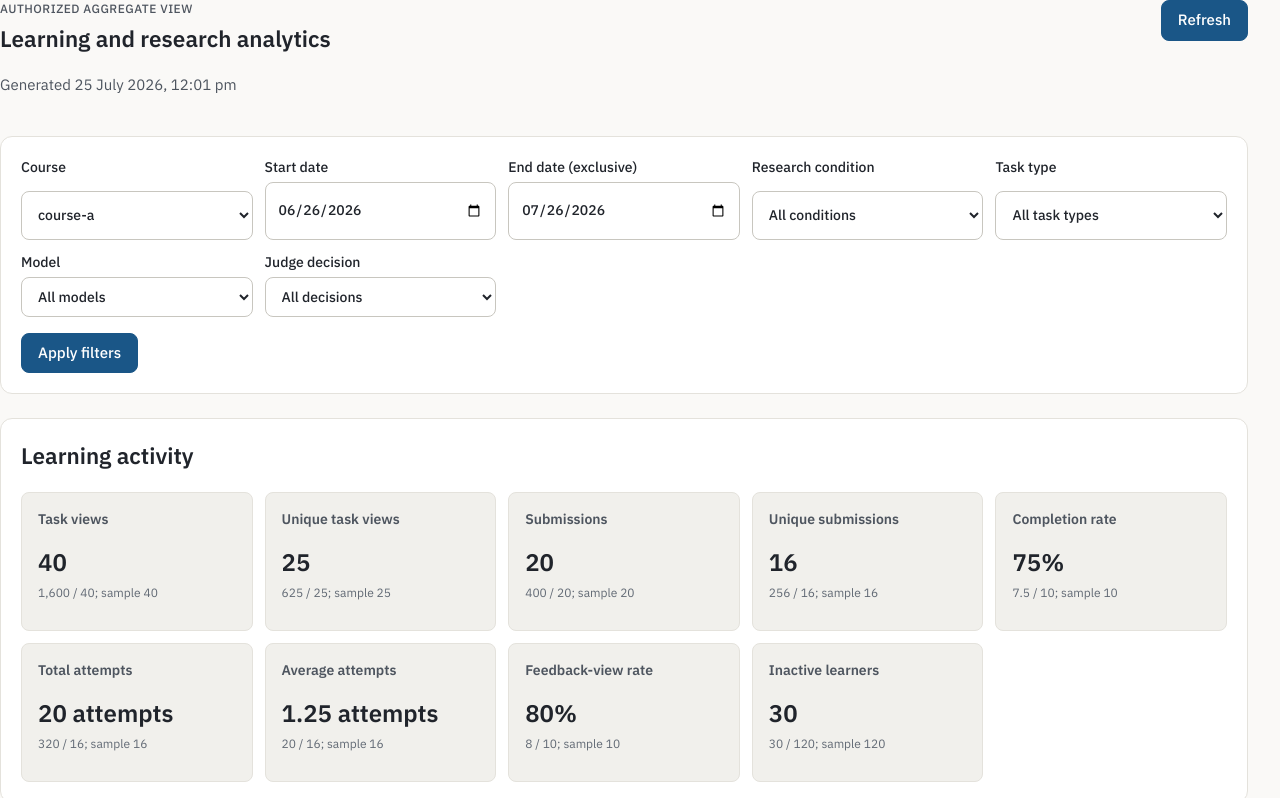
aborts stale aggregate requests when filters are superseded
The width and height of the screenshot is (1280, 798).
Expected: the heading "Learning activity" is shown, 21,441 -> 194,470
Select "course-b" in the dropdown labelled "Course" at (137, 215), box 21,191 -> 253,240
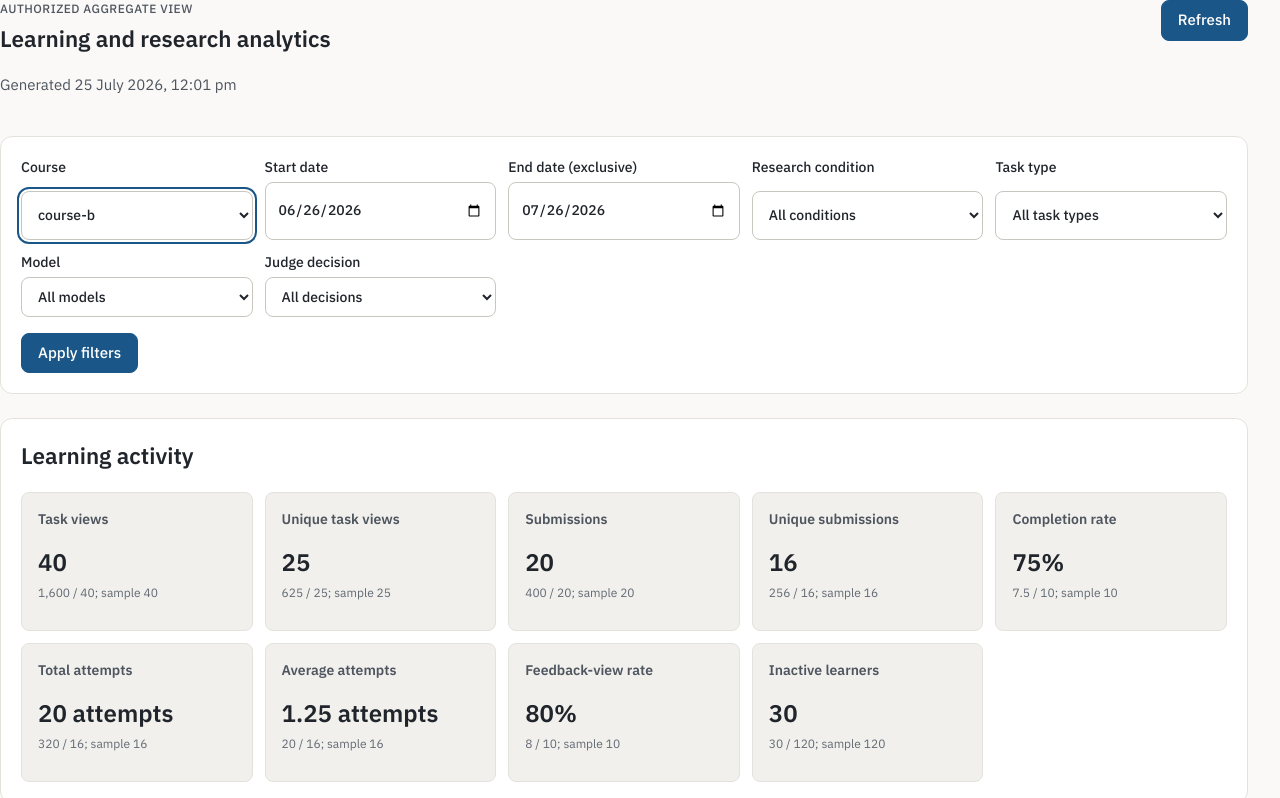
Click the button "Apply filters" at (80, 353), box 21,333 -> 138,373
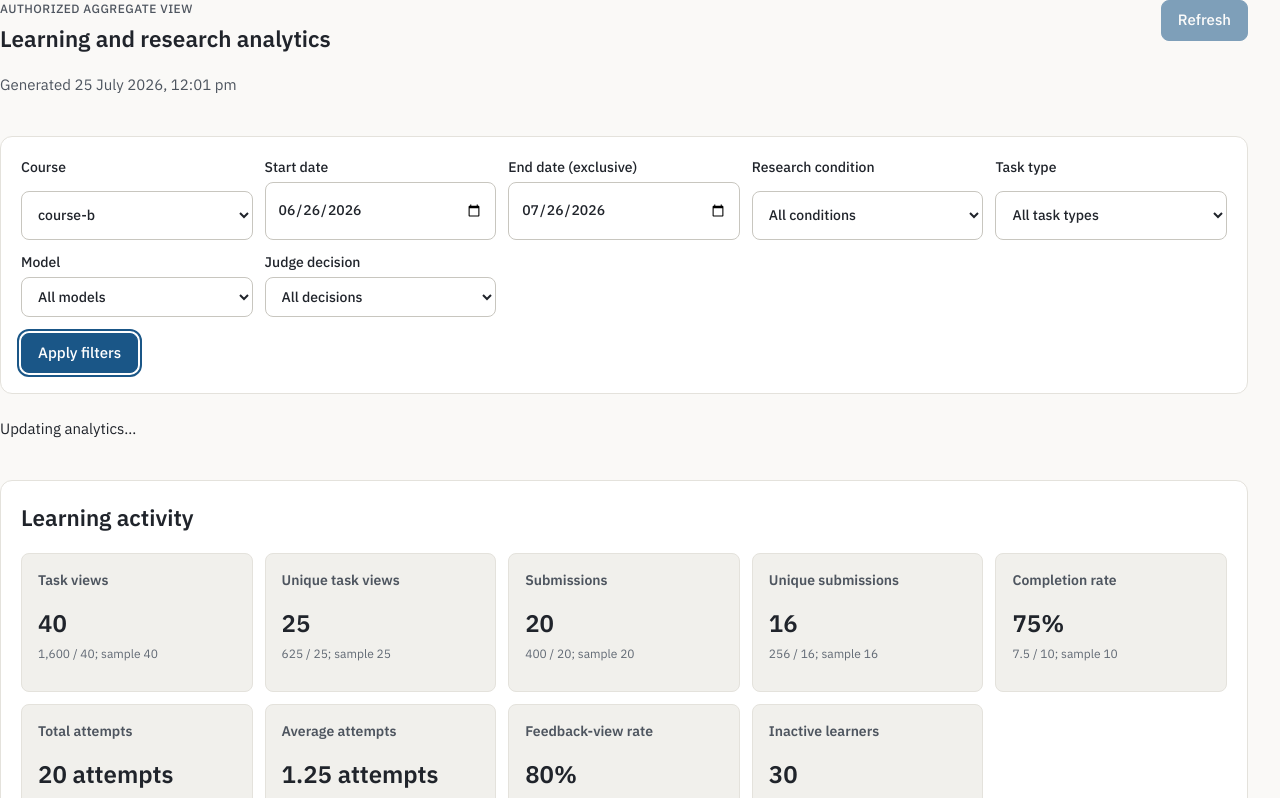
Select "course-c" in the dropdown labelled "Course" at (137, 215), box 21,191 -> 253,240
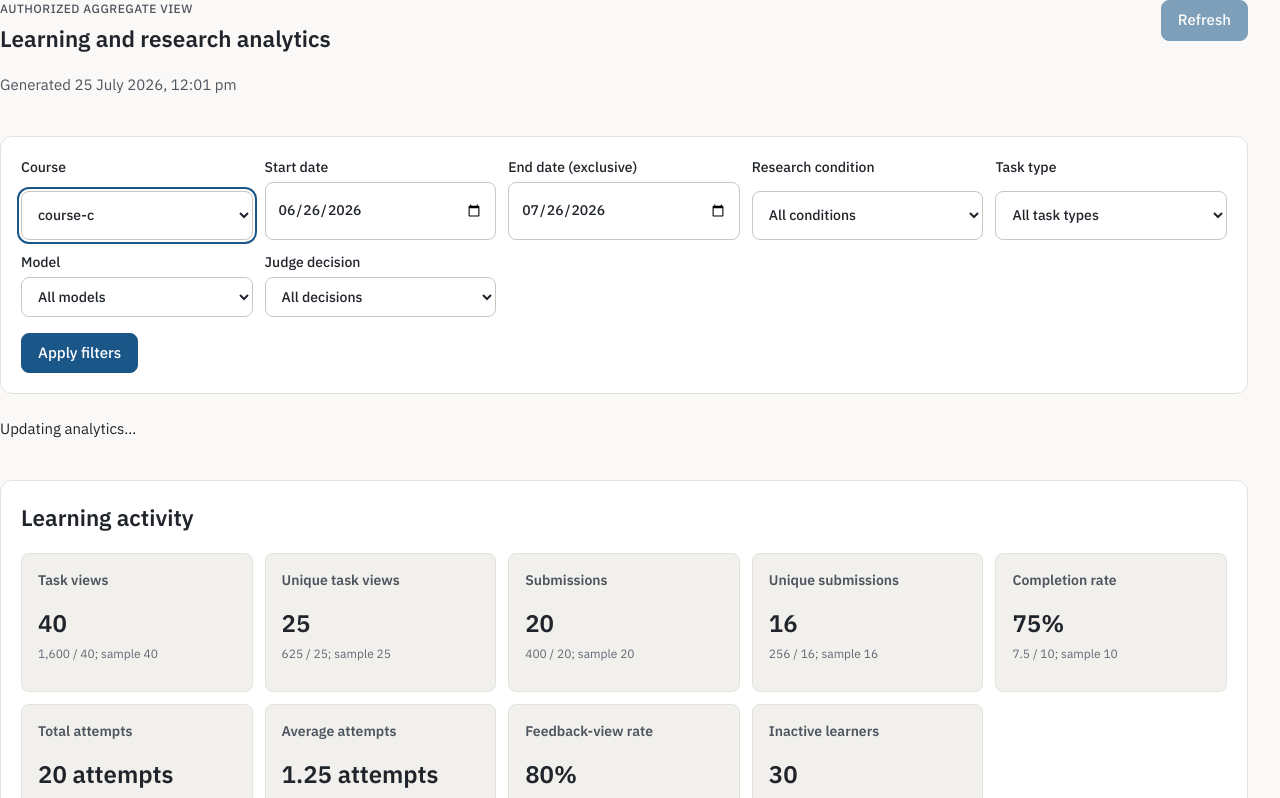
Click the button "Apply filters" at (80, 353), box 21,333 -> 138,373
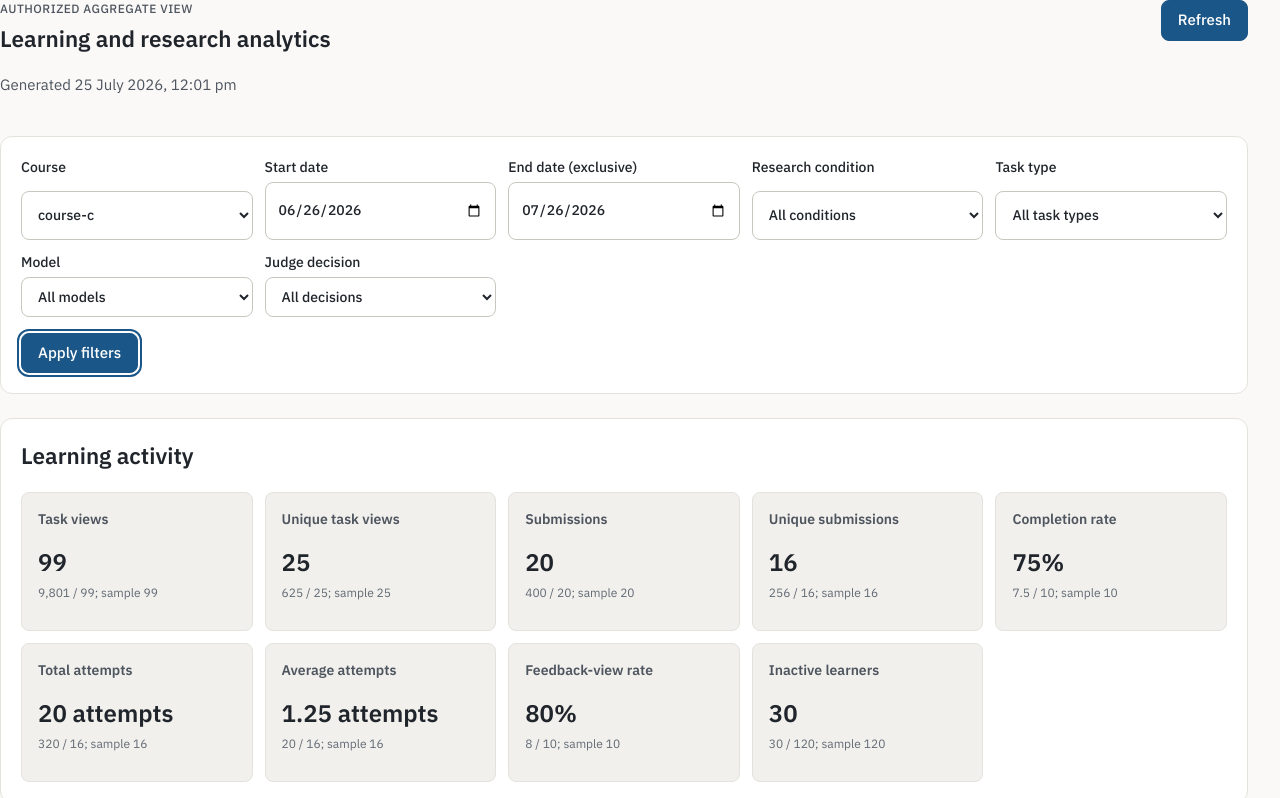
Now the text "99" is shown, box 38,546 -> 67,578
